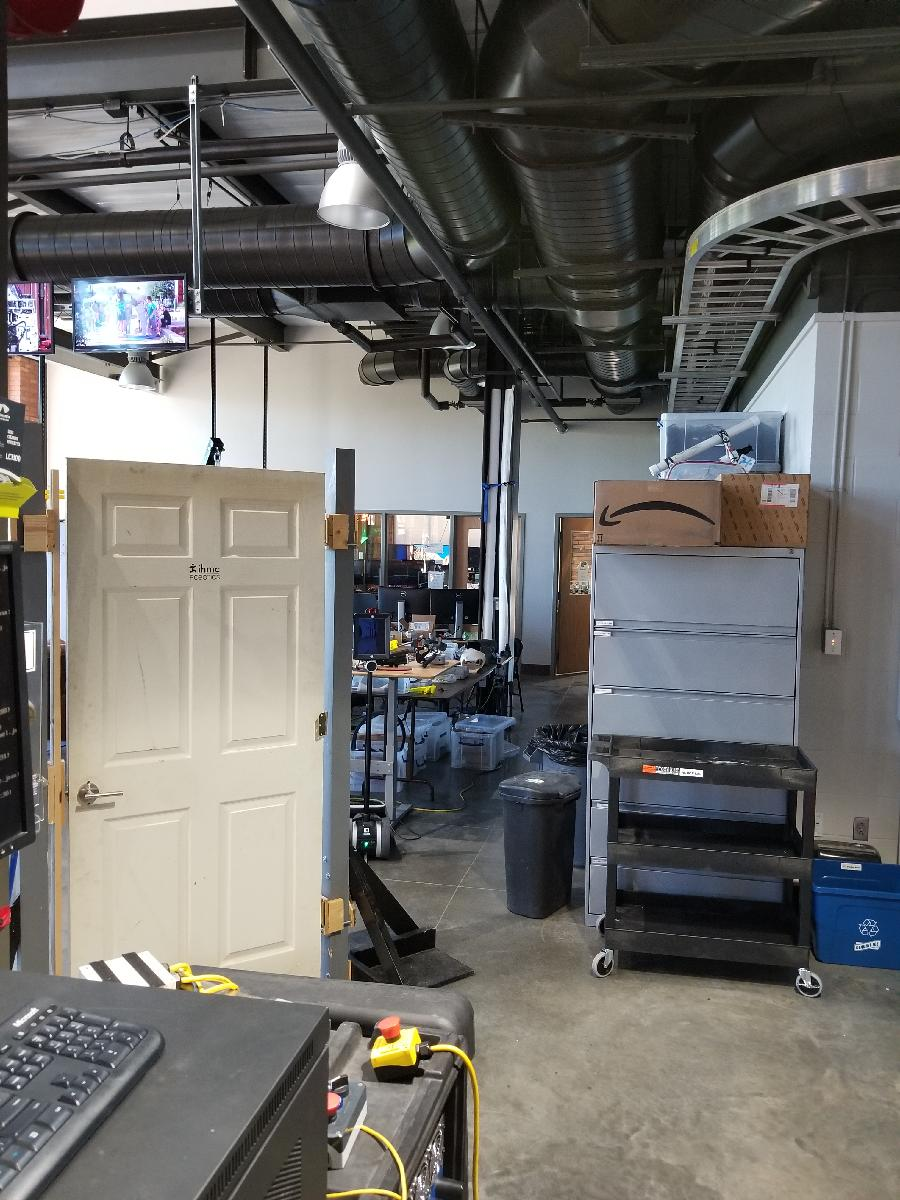door: (59, 455, 331, 1050)
doorHandle: (74, 776, 125, 815)
